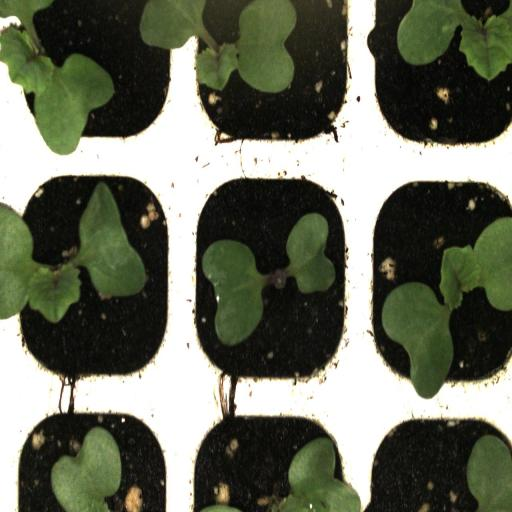Folha: (397, 0, 512, 81), (272, 437, 362, 512), (202, 240, 265, 346), (50, 426, 122, 512), (286, 212, 335, 294), (466, 434, 512, 512), (139, 0, 208, 50)
Germinacao: (186, 157, 359, 398), (12, 156, 186, 394), (360, 159, 512, 398), (187, 0, 358, 160), (12, 0, 185, 153)
